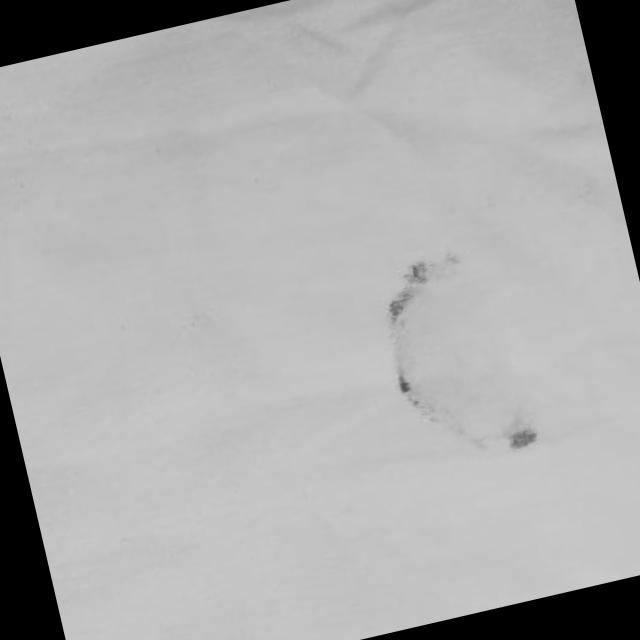Stain: (364, 237, 544, 478)
